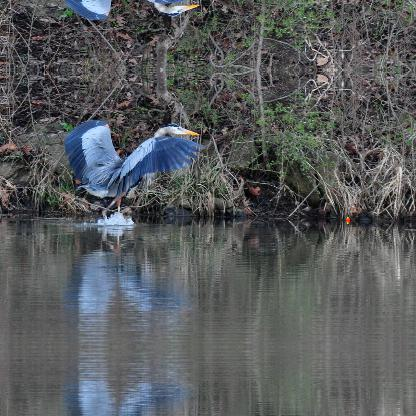Bird: (64, 121, 200, 215)
